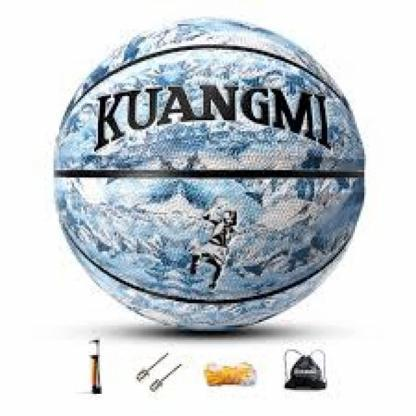basketball: (56, 18, 365, 330)
